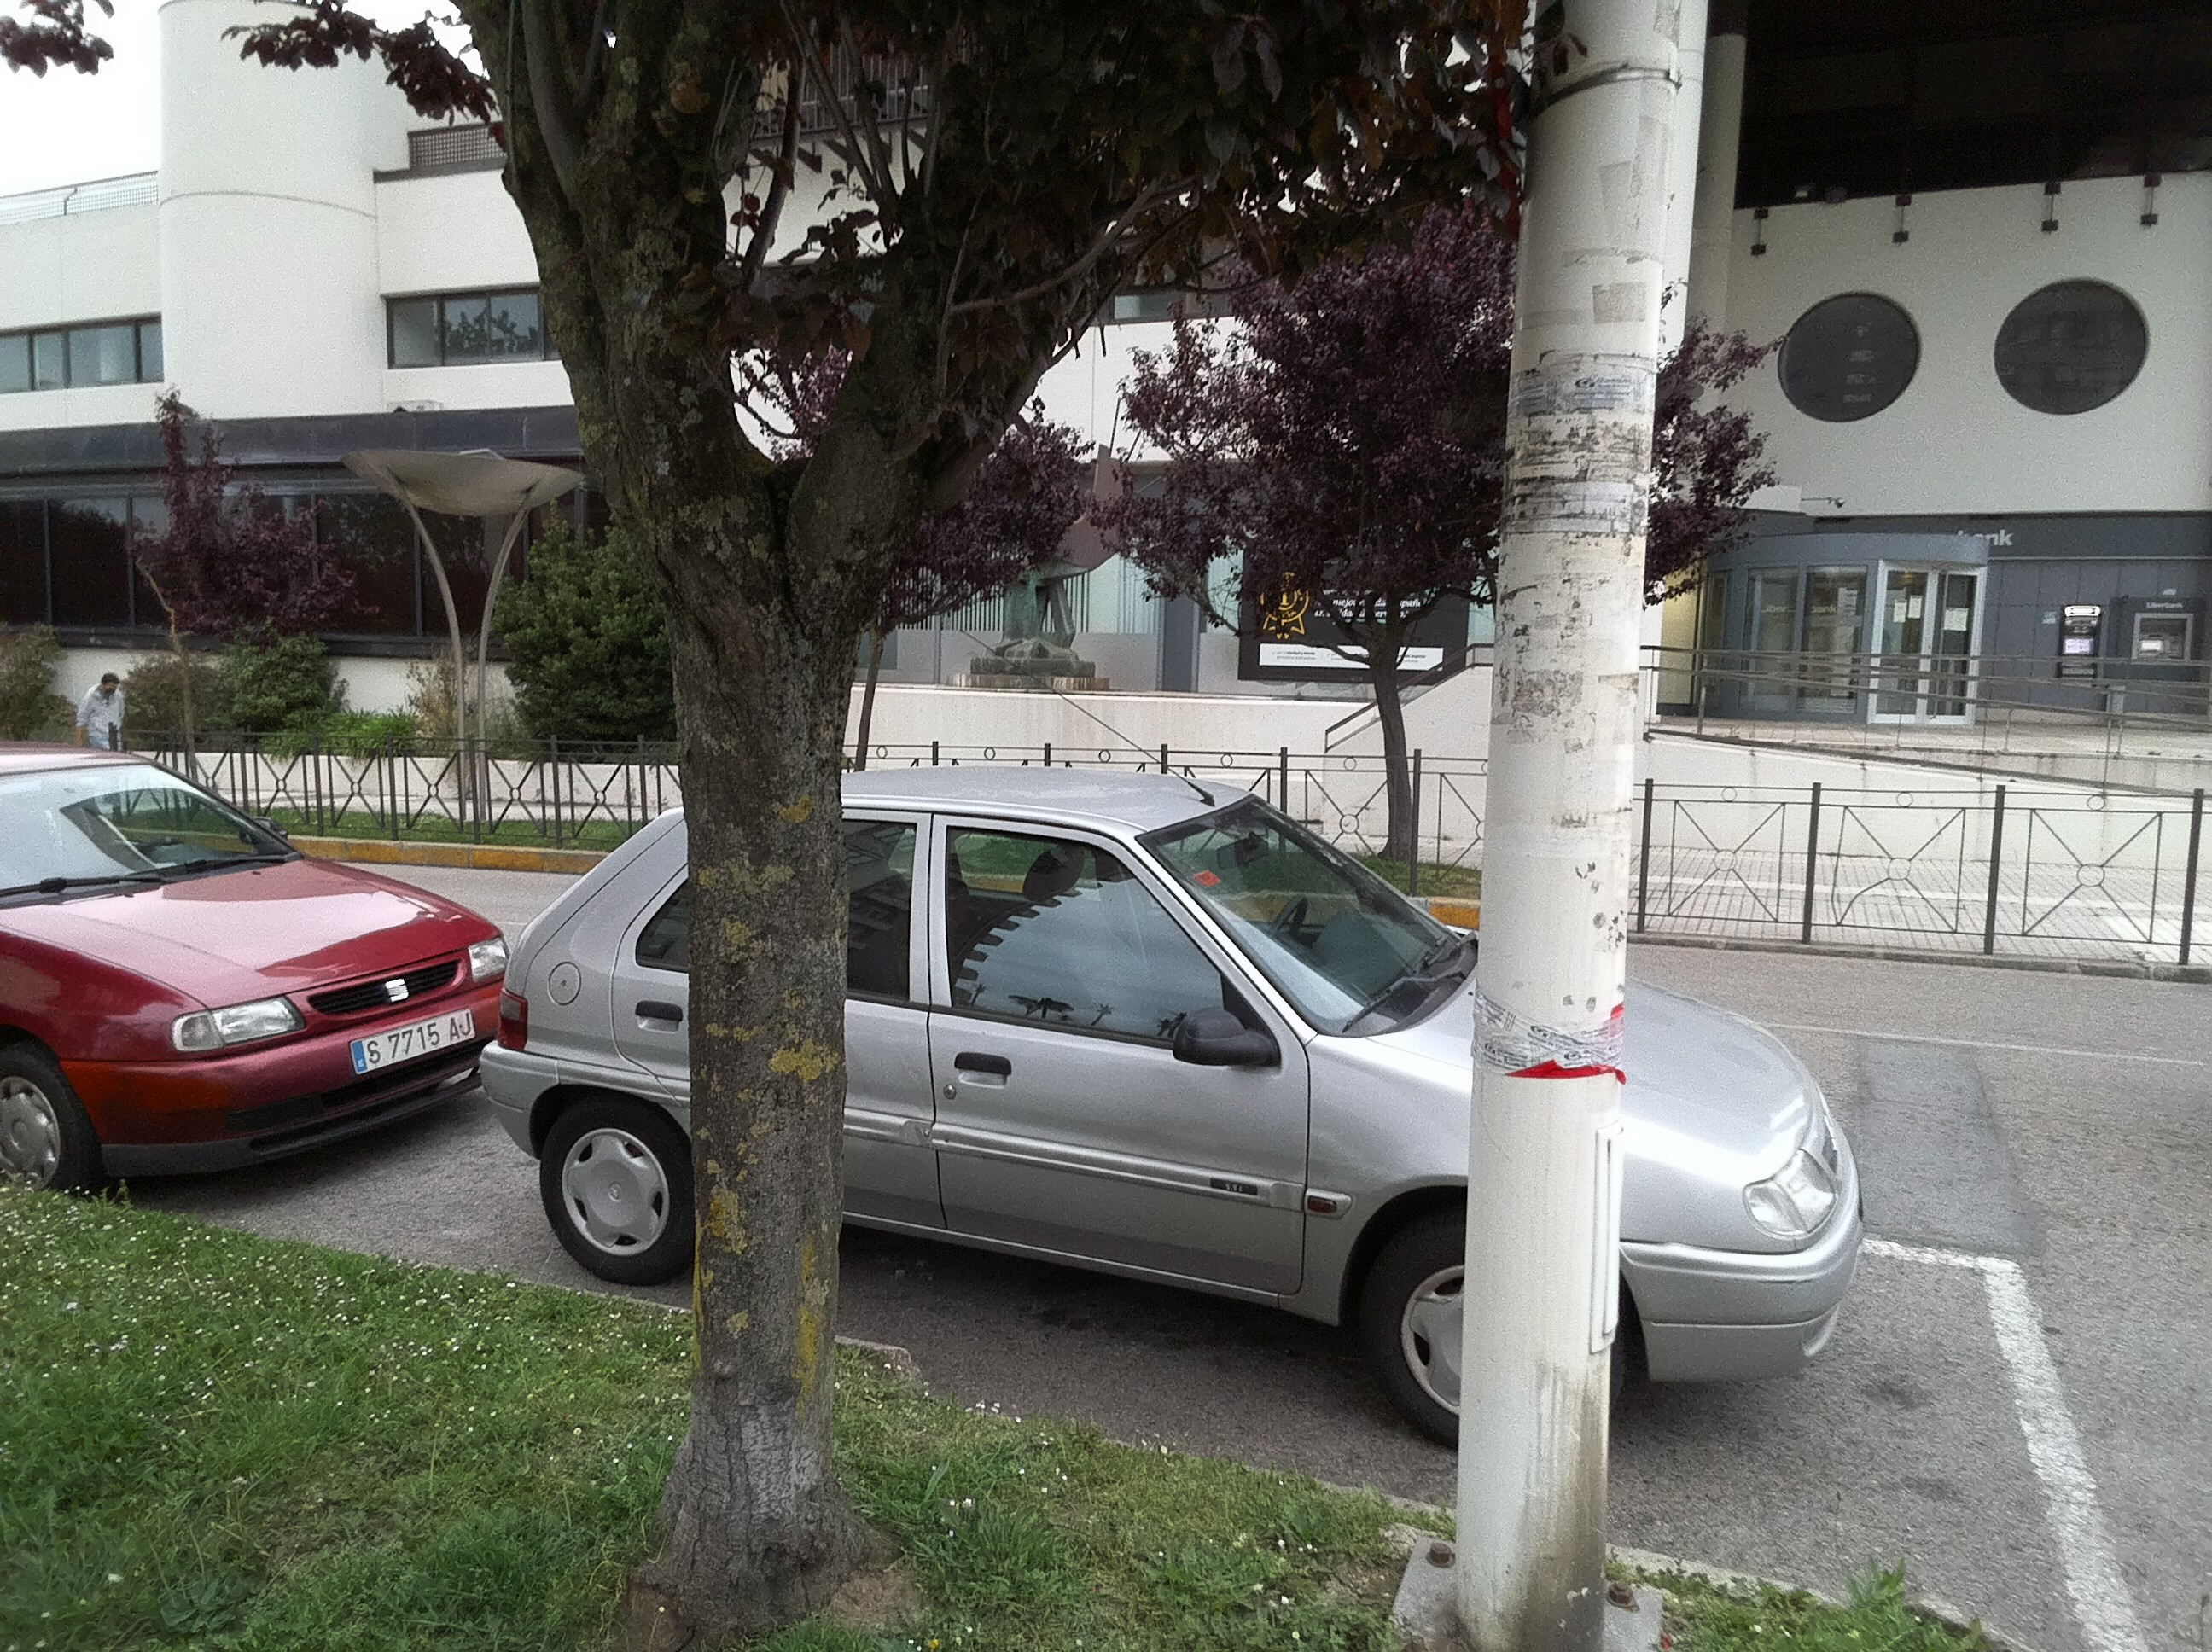Arbol: (474, 17, 930, 1636)
Poste: (1449, 0, 1692, 1642)
Vehiculo: (461, 741, 1881, 1461), (0, 729, 529, 1236)
